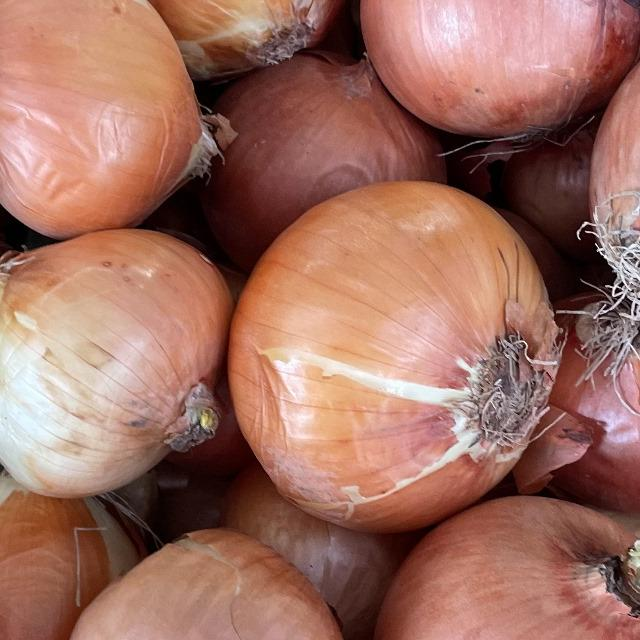onion: (220, 162, 572, 525), (0, 0, 230, 247), (375, 470, 640, 640), (32, 505, 365, 640)
